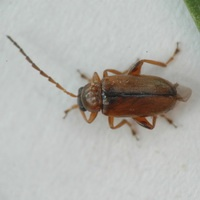insect: (7, 35, 191, 139)
